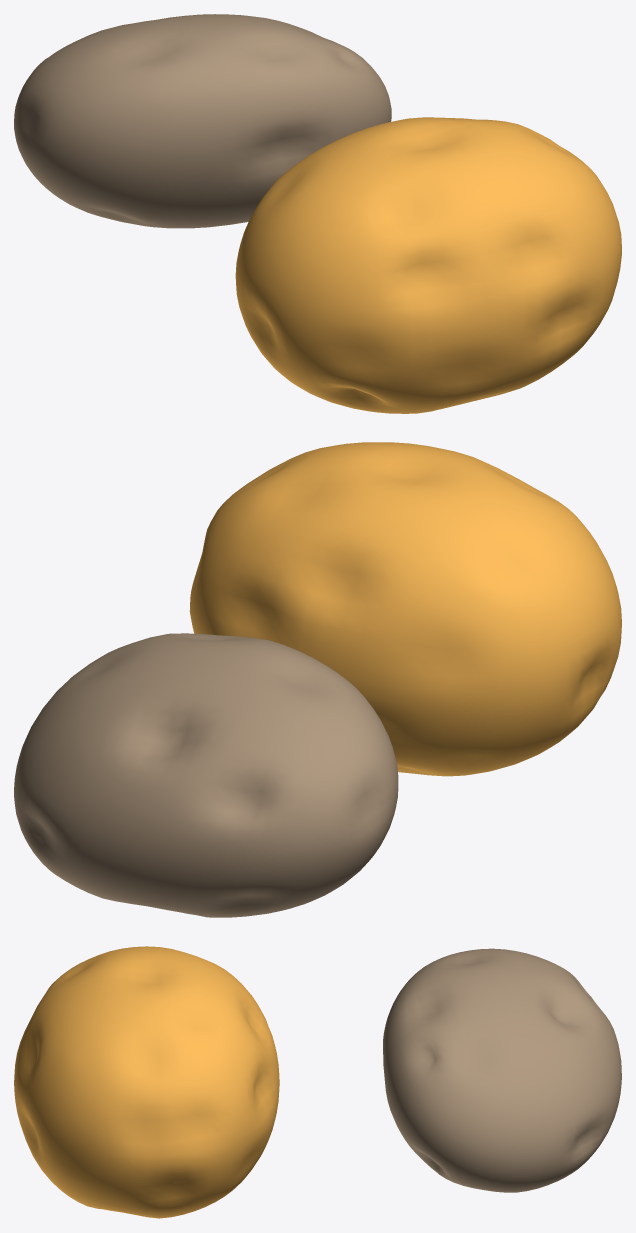
The model's file is potatos.glb.
The picture shows the model from 3 angles, top to bottom: view 1: azimuth 30°, elevation 25°; view 2: azimuth 150°, elevation 25°; view 3: azimuth 270°, elevation 25°; orthographic projection. The views are drawn at different scales.
Visible parts, largest first — view 1: Cube.002, Cube.003; view 2: Cube.002, Cube.003; view 3: Cube.002, Cube.003.
Part boxes in pixels (x1,y1,x2,y2): Cube.002: [235, 117, 621, 413]; Cube.003: [14, 14, 391, 228]; Cube.002: [189, 442, 621, 776]; Cube.003: [14, 633, 398, 917]; Cube.002: [14, 946, 279, 1218]; Cube.003: [383, 948, 621, 1192].
Bounding box in the file's own units: 2.71 × 1.81 × 4.56.
2 materials, 2 textured.
